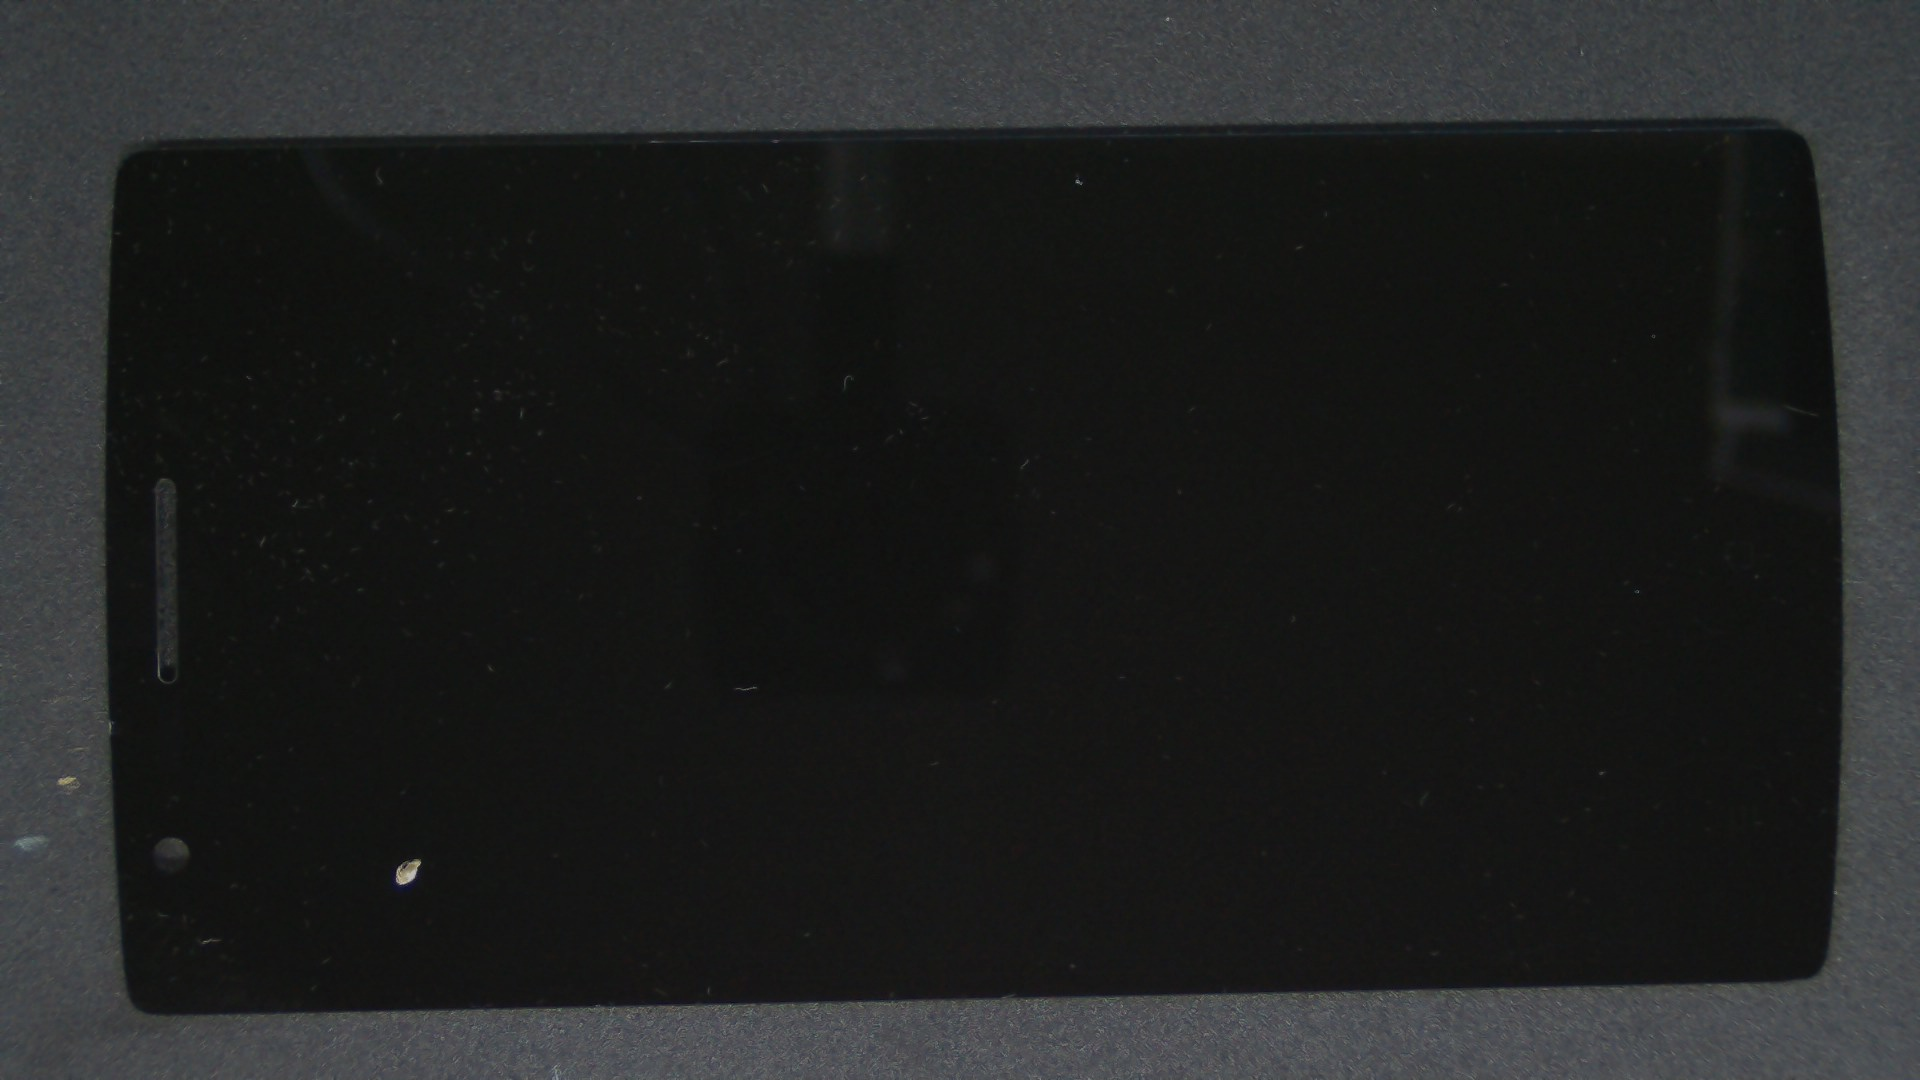oil: (207, 429, 617, 1080)
